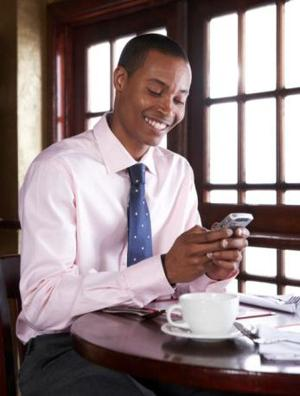person: (16, 35, 249, 396)
